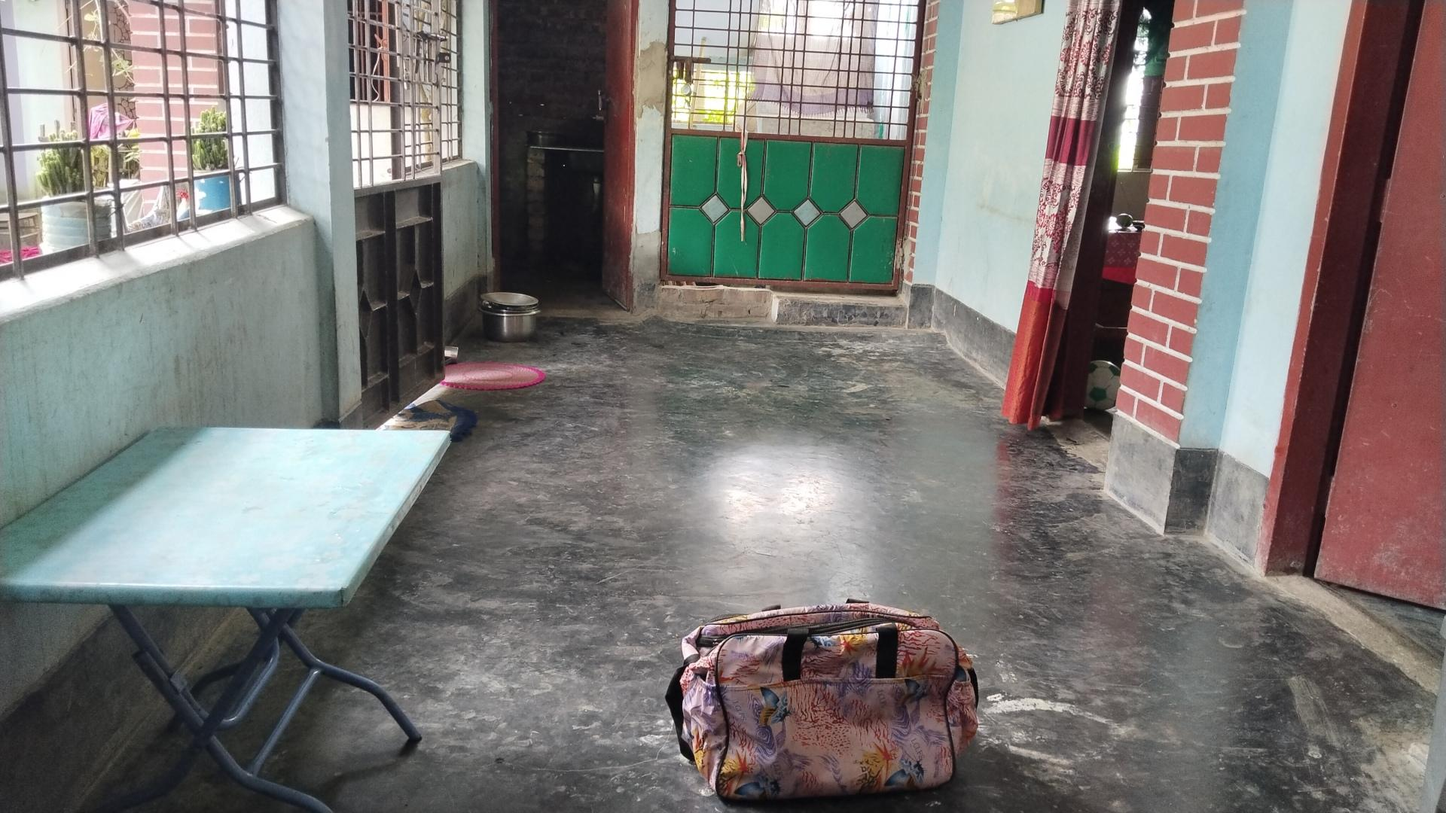Bag: (671, 609, 979, 798)
Door: (671, 4, 918, 308), (495, 5, 628, 299)
Floor Mat: (437, 353, 550, 403)
Plant: (32, 132, 127, 252), (185, 112, 249, 212)
Pot: (479, 293, 539, 337)
Table: (0, 410, 454, 813)
